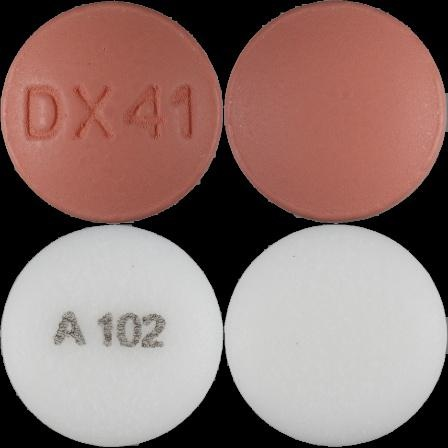68788-9523: (0, 0, 224, 224)
